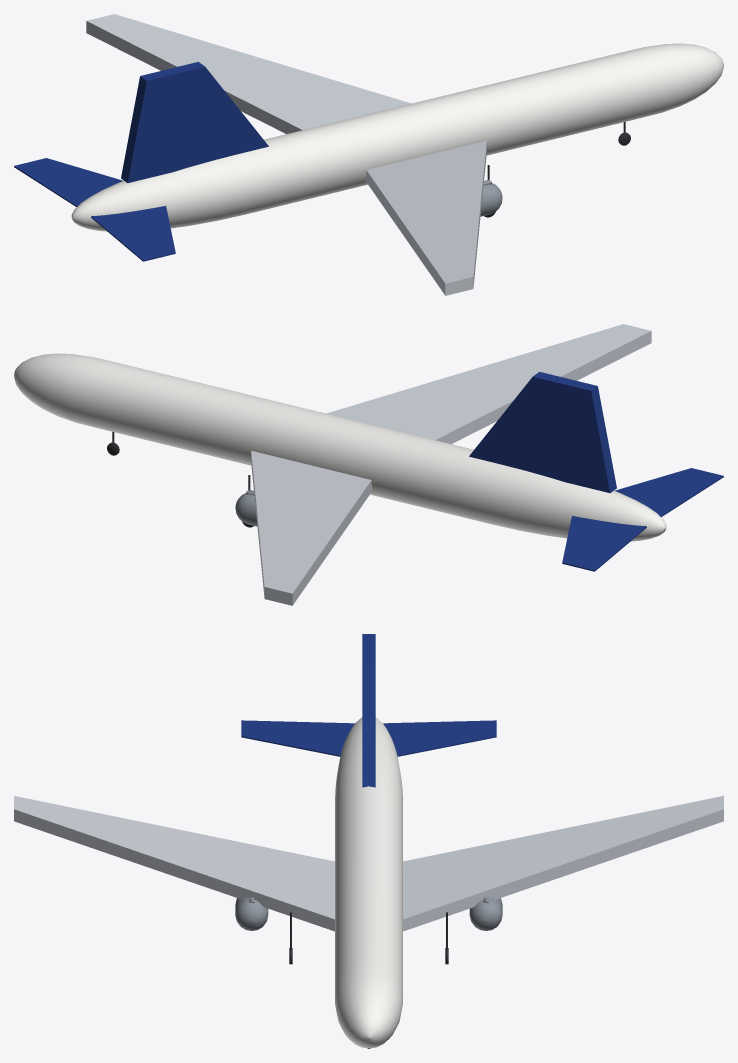
The picture shows the model from 3 angles, top to bottom: view 1: azimuth 30°, elevation 25°; view 2: azimuth 150°, elevation 25°; view 3: azimuth 270°, elevation 25°; orthographic projection.
Visible parts, largest first — view 1: fuselage, wings, tail, engines; view 2: fuselage, wings, tail, engines; view 3: wings, fuselage, tail, engines.
Boxes of the visible parts, left/top/right/bottom form: fuselage: left=71, top=43, right=723, bottom=231; wings: left=86, top=14, right=486, bottom=295; tail: left=14, top=62, right=268, bottom=261; engines: left=480, top=180, right=502, bottom=216; fuselage: left=14, top=353, right=666, bottom=541; wings: left=251, top=324, right=651, bottom=605; tail: left=469, top=372, right=723, bottom=571; engines: left=235, top=490, right=257, bottom=526; wings: left=14, top=796, right=723, bottom=931; fuselage: left=335, top=717, right=402, bottom=1048; tail: left=241, top=634, right=496, bottom=787; engines: left=235, top=896, right=502, bottom=930.
Bounding box in the file's own units: 62.8 × 16.99 × 60.1.
